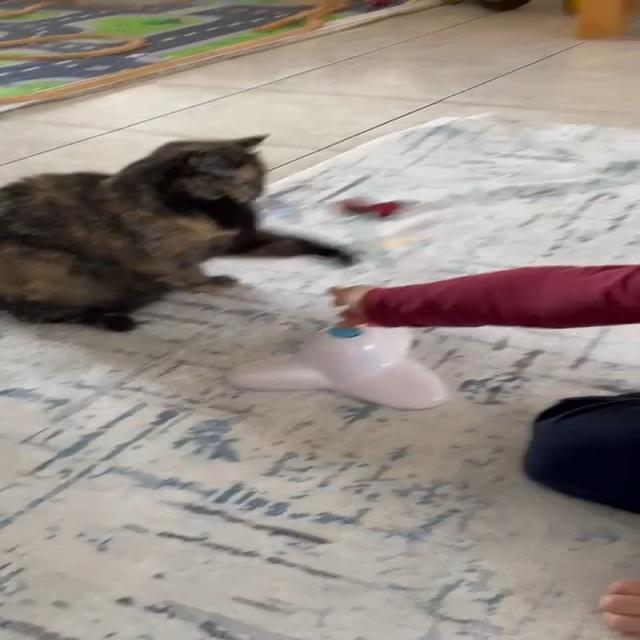authorized: (0, 132, 359, 333)
